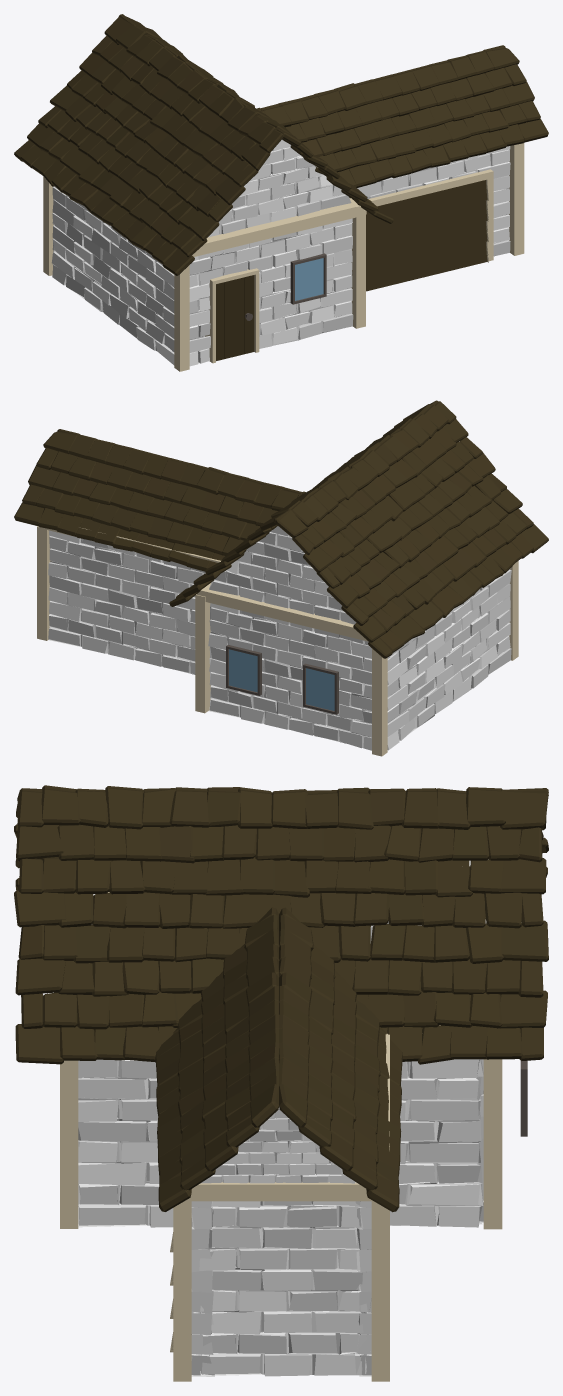
Rendered from HouseD.fbx.
3 views of the same model, one above another, from view 1: azimuth 30°, elevation 25°; view 2: azimuth 150°, elevation 25°; view 3: azimuth 270°, elevation 25° (orthographic). The views are drawn at different scales.
Parts seen in each view (by area): view 1: Plane.002, Plane, Cube.014, Cube.031, Cube.026, Cube.001, Cylinder, Cube.025, Cube.003, Cube.011, Cube, Cube.006 (+2 smaller); view 2: Plane.002, Plane, Cube.013, Cube.024, Cube.026, Cube.029, Cube.019, Cube.008, Cube.007, Cube.016, Cube.015, Cube.010 (+1 smaller); view 3: Plane.002, Plane, Cube.027, Cube.028, Cube.030, Cube.025, Cube.011, Cube.008, Cube.010, Cube.023, Cube.005, Cube.013.
Boxes of the visible parts, <box> form: Plane.002: <box>14,14,393,275</box>; Plane: <box>256,45,548,187</box>; Cube.014: <box>172,218,353,366</box>; Cube.031: <box>366,169,493,291</box>; Cube.026: <box>51,186,190,365</box>; Cube.001: <box>208,139,350,237</box>; Cylinder: <box>205,268,259,363</box>; Cube.025: <box>357,146,510,256</box>; Cube.003: <box>192,203,364,256</box>; Cube.011: <box>509,143,524,255</box>; Cube: <box>290,253,326,304</box>; Cube.006: <box>174,265,189,371</box>; Plane.002: <box>169,400,548,658</box>; Plane: <box>14,429,305,571</box>; Cube.013: <box>48,530,205,674</box>; Cube.024: <box>208,603,390,750</box>; Cube.026: <box>387,568,511,750</box>; Cube.029: <box>209,526,356,624</box>; Cube.019: <box>197,588,367,641</box>; Cube.008: <box>195,594,210,713</box>; Cube.007: <box>372,648,387,756</box>; Cube.016: <box>303,663,338,714</box>; Cube.015: <box>226,644,261,695</box>; Cube.010: <box>37,526,52,640</box>; Plane.002: <box>14,785,548,1064</box>; Plane: <box>155,907,402,1212</box>; Cube.027: <box>78,1059,483,1227</box>; Cube.028: <box>198,1201,371,1376</box>; Cube.030: <box>200,1107,357,1183</box>; Cube.025: <box>191,1201,215,1376</box>; Cube.011: <box>173,1193,191,1381</box>; Cube.008: <box>483,1059,502,1229</box>; Cube.010: <box>371,1200,389,1381</box>; Cube.023: <box>191,1182,371,1201</box>; Cube.005: <box>60,1060,78,1228</box>; Cube.013: <box>354,1201,371,1376</box>.
Bounding box in the file's own units: 720 × 373 × 491.
